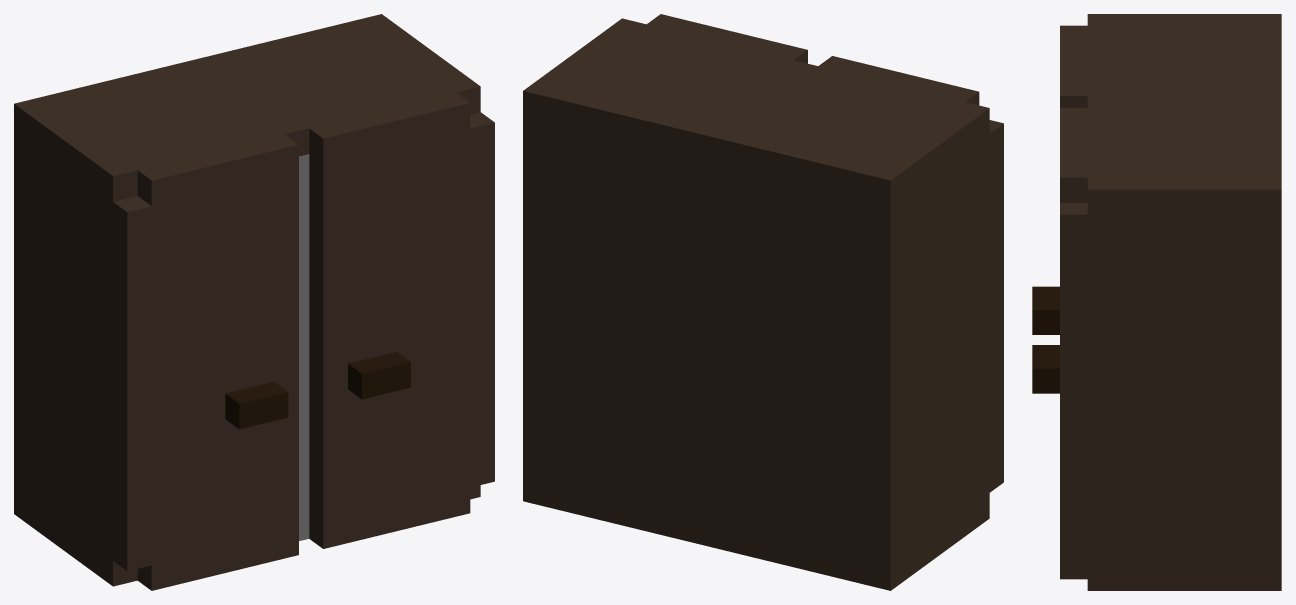
The model's file is Szafa2.dae.
3 views of the same model, side by side, from view 1: azimuth 30°, elevation 25°; view 2: azimuth 150°, elevation 25°; view 3: azimuth 270°, elevation 25° (orthographic). The views are drawn at different scales.
Parts seen in each view (by area): view 1: Szafa; view 2: Szafa; view 3: Szafa.
Part boxes in pixels (x1,y1,x2,y2): Szafa: [14, 14, 494, 590]; Szafa: [523, 14, 1003, 590]; Szafa: [1032, 14, 1281, 590].
Size of the model in its own units: 15 by 16 by 9.
1 material, 1 textured.
